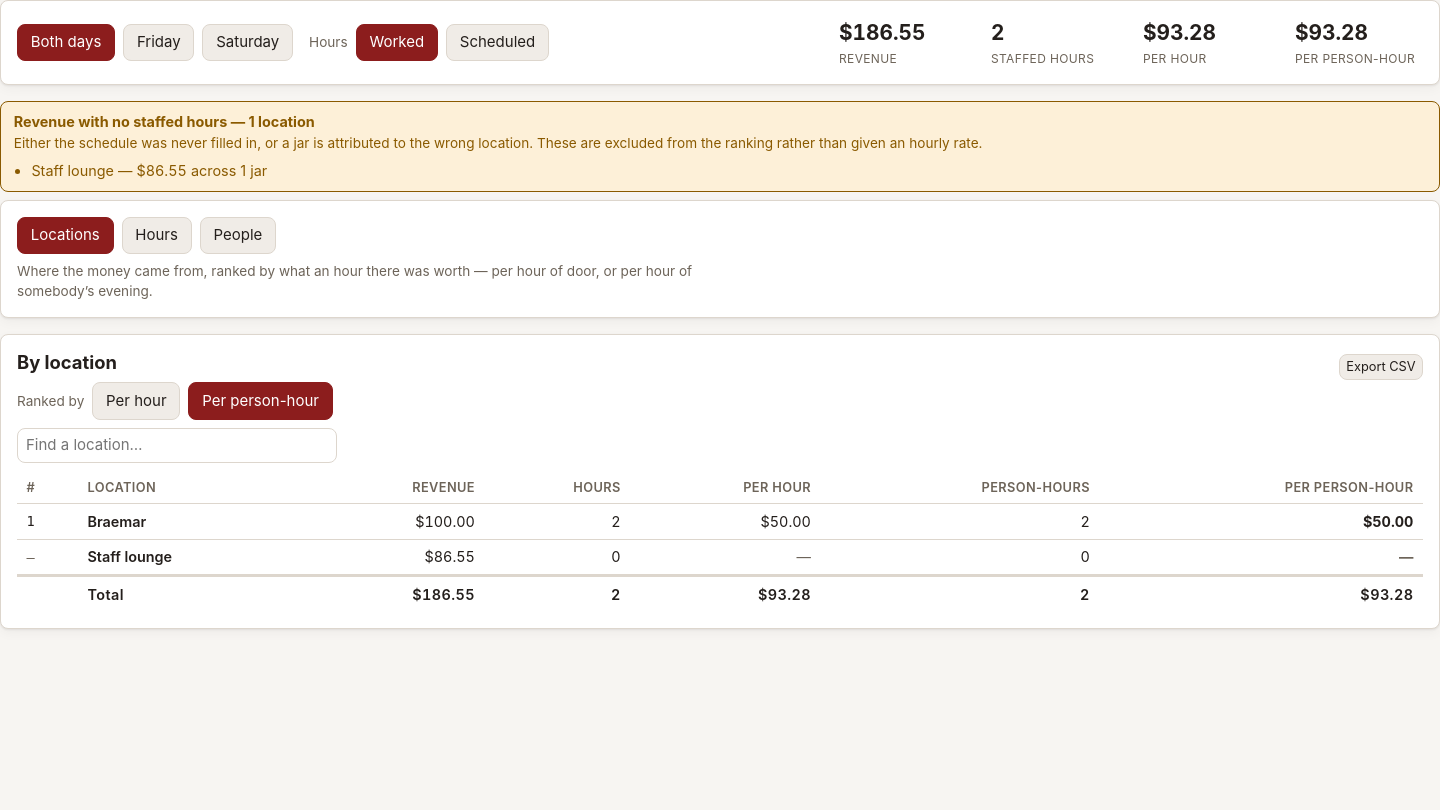
Test: one question at a time › switches between views
Click the tab "Hours". click: {"x": 157, "y": 236}
box: [122,217,192,254]
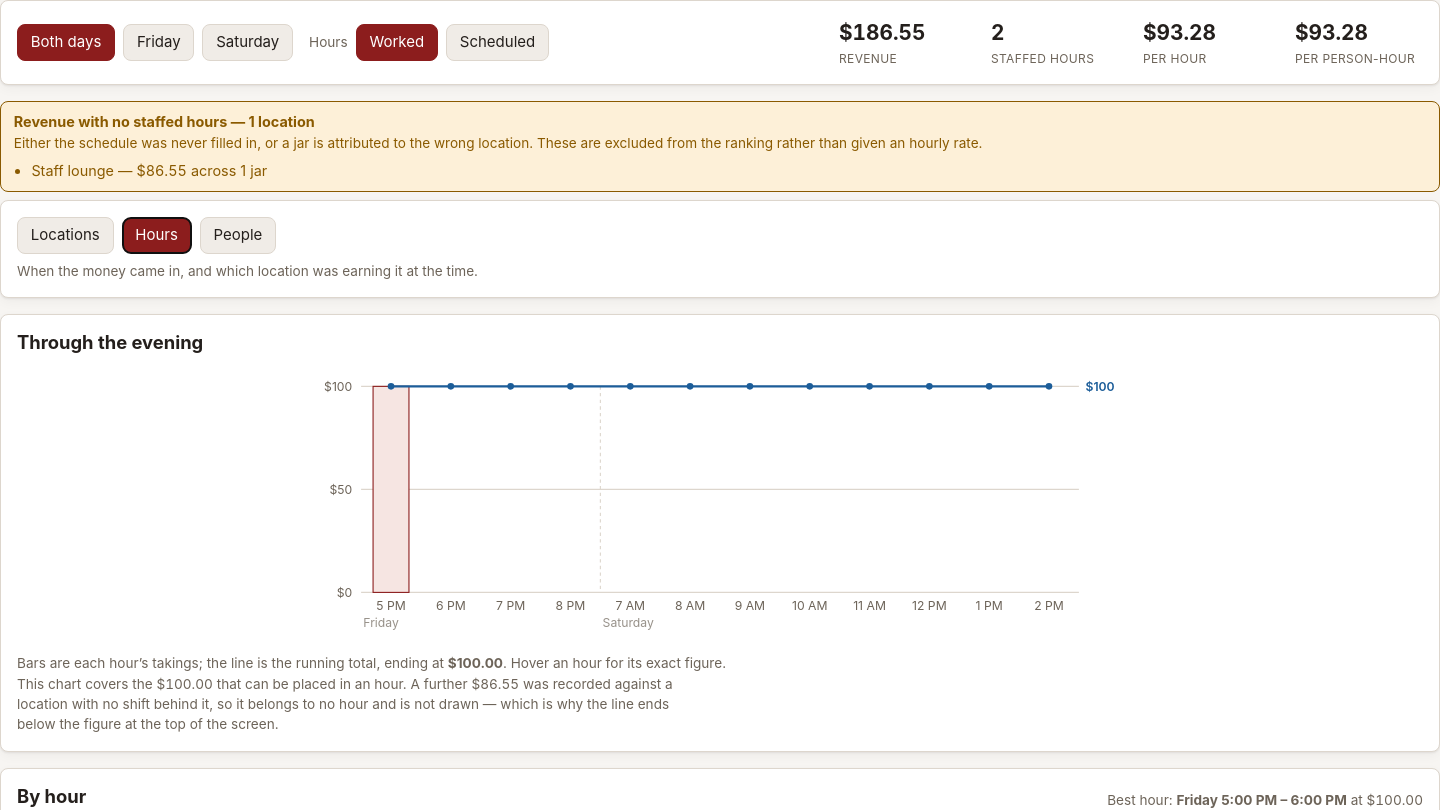
expect the heading "By location" is gone: met
Click the tab "People". click: {"x": 238, "y": 236}
box: [200,217,276,254]
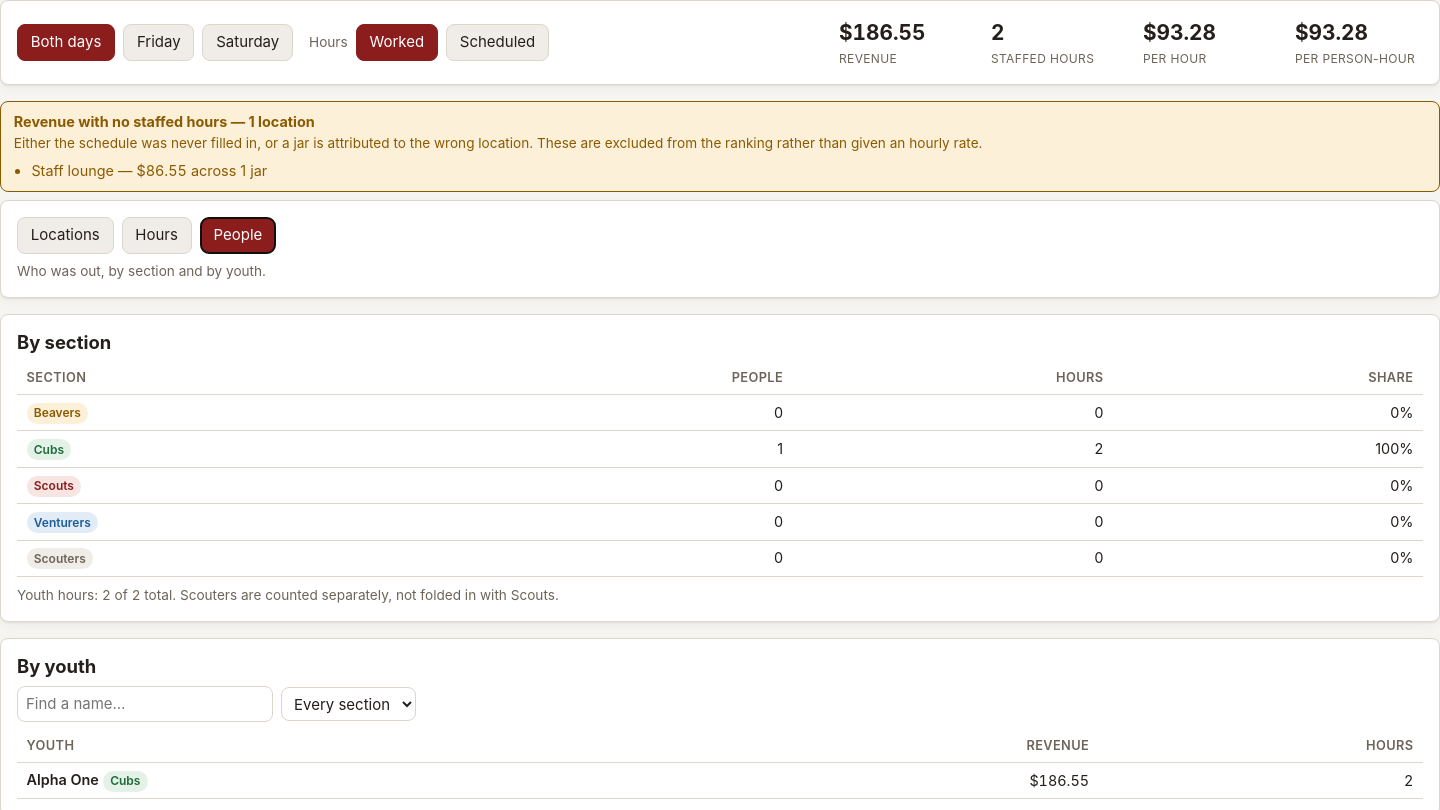
expect the column heading "Youth" is shown: met, box [17,730,700,763]
